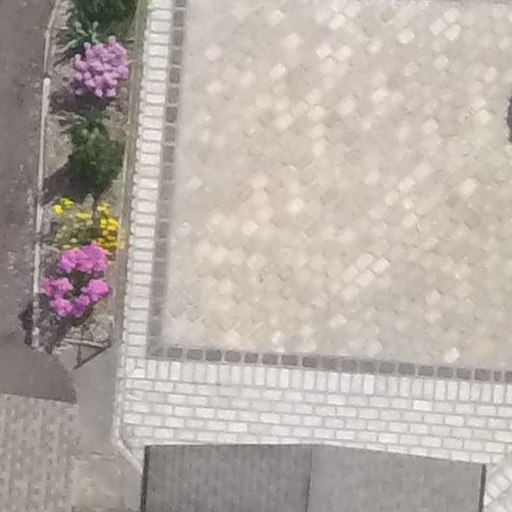flower pot: (41, 240, 117, 332), (44, 192, 129, 262), (56, 34, 137, 107), (68, 117, 131, 192)
